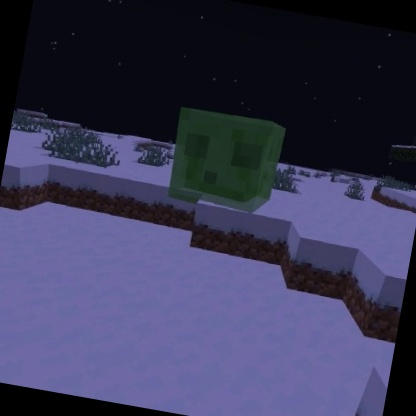slime: (163, 101, 291, 220)
